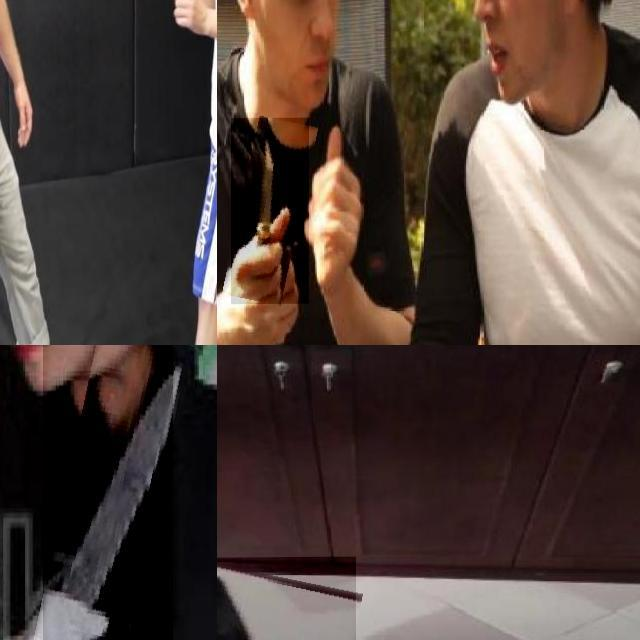-: (43, 345, 173, 640), (231, 118, 309, 304), (217, 556, 355, 640), (0, 186, 46, 264)
